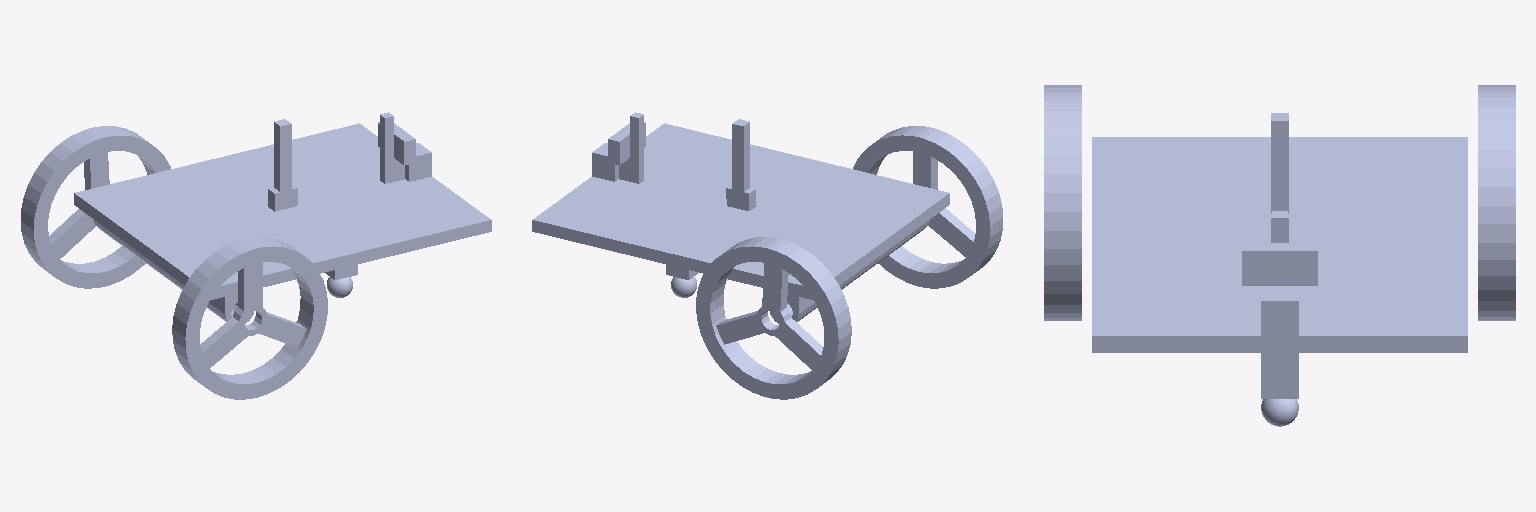
The robot description file, URDF, robot "pauli":
<?xml version="1.0" encoding="utf-8"?>
<robot
  name="pauli">
  <link
    name="base_link">
    <inertial>
      <origin
        xyz="0.0827987345980127 1.83243031281616E-17 0.0784992660554831"
        rpy="0 0 0" />
      <mass
        value="0.613776529879719" />
      <inertia
        ixx="0.00203019817083969"
        ixy="7.73666733199254E-20"
        ixz="-7.84328420502032E-05"
        iyy="0.00345682018038741"
        iyz="-2.30076090362524E-20"
        izz="0.00536735194207918" />
    </inertial>
    <visual>
      <origin
        xyz="0 0 0"
        rpy="0 0 0" />
      <geometry>
        <mesh
          filename="package://pauli/meshes/base_link.STL" />
      </geometry>
      <material
        name="">
        <color
          rgba="0.792156862745098 0.819607843137255 0.933333333333333 1" />
      </material>
    </visual>
    <collision>
      <origin
        xyz="0 0 0"
        rpy="0 0 0" />
      <geometry>
        <mesh
          filename="package://pauli/meshes/base_link.STL" />
      </geometry>
    </collision>
  </link>
  <link
    name="fir">
    <inertial>
      <origin
        xyz="0 -3.20178454062125E-19 -1.38777878078145E-17"
        rpy="0 0 0" />
      <mass
        value="0.00312500000000001" />
      <inertia
        ixx="1.69270833333334E-07"
        ixy="-5.24666324745101E-24"
        ixz="-9.92616735063682E-26"
        iyy="1.69270833333334E-07"
        iyz="-9.45191713277259E-24"
        izz="3.25520833333334E-07" />
    </inertial>
    <visual>
      <origin
        xyz="0 0 0"
        rpy="0 0 0" />
      <geometry>
        <mesh
          filename="package://pauli/meshes/fir.STL" />
      </geometry>
      <material
        name="">
        <color
          rgba="0.792156862745098 0.819607843137255 0.933333333333333 1" />
      </material>
    </visual>
    <collision>
      <origin
        xyz="0 0 0"
        rpy="0 0 0" />
      <geometry>
        <mesh
          filename="package://pauli/meshes/fir.STL" />
      </geometry>
    </collision>
  </link>
  <joint
    name="jfir"
    type="fixed">
    <origin
      xyz="0.2075 0 0.07473891288"
      rpy="0 0 0" />
    <parent
      link="base_link" />
    <child
      link="fir" />
    <axis
      xyz="0 0 0" />
  </joint>
  <link
    name="rir">
    <inertial>
      <origin
        xyz="0 1.38777878078145E-17 0"
        rpy="0 0 0" />
      <mass
        value="0.003125" />
      <inertia
        ixx="1.69270833333333E-07"
        ixy="2.67874169569172E-25"
        ixz="4.03664138925878E-24"
        iyy="1.69270833333333E-07"
        iyz="-1.18011100724232E-24"
        izz="3.25520833333333E-07" />
    </inertial>
    <visual>
      <origin
        xyz="0 0 0"
        rpy="0 0 0" />
      <geometry>
        <mesh
          filename="package://pauli/meshes/rir.STL" />
      </geometry>
      <material
        name="">
        <color
          rgba="0.792156862745098 0.819607843137255 0.933333333333333 1" />
      </material>
    </visual>
    <collision>
      <origin
        xyz="0 0 0"
        rpy="0 0 0" />
      <geometry>
        <mesh
          filename="package://pauli/meshes/rir.STL" />
      </geometry>
    </collision>
  </link>
  <joint
    name="jrir"
    type="fixed">
    <origin
      xyz="0.095 -0.0875 0.07473891288"
      rpy="0 0 0" />
    <parent
      link="base_link" />
    <child
      link="rir" />
    <axis
      xyz="0 0 0" />
  </joint>
  <link
    name="bir">
    <inertial>
      <origin
        xyz="0 -7.1506521407208E-18 0"
        rpy="0 0 0" />
      <mass
        value="0.003125" />
      <inertia
        ixx="1.69270833333333E-07"
        ixy="-1.07612006644712E-23"
        ixz="-5.61379909052655E-24"
        iyy="1.69270833333334E-07"
        iyz="-1.22091858412827E-23"
        izz="3.25520833333334E-07" />
    </inertial>
    <visual>
      <origin
        xyz="0 0 0"
        rpy="0 0 0" />
      <geometry>
        <mesh
          filename="package://pauli/meshes/bir.STL" />
      </geometry>
      <material
        name="">
        <color
          rgba="0.792156862745098 0.819607843137255 0.933333333333333 1" />
      </material>
    </visual>
    <collision>
      <origin
        xyz="0 0 0"
        rpy="0 0 0" />
      <geometry>
        <mesh
          filename="package://pauli/meshes/bir.STL" />
      </geometry>
    </collision>
  </link>
  <joint
    name="jbir"
    type="fixed">
    <origin
      xyz="-0.0255 0 0.07473891288"
      rpy="0 0 0" />
    <parent
      link="base_link" />
    <child
      link="bir" />
    <axis
      xyz="0 0 0" />
  </joint>
  <link
    name="lir">
    <inertial>
      <origin
        xyz="-1.38777878078145E-17 0 0"
        rpy="0 0 0" />
      <mass
        value="0.003125" />
      <inertia
        ixx="1.69270833333333E-07"
        ixy="2.67874169569172E-25"
        ixz="4.03664138925878E-24"
        iyy="1.69270833333333E-07"
        iyz="-1.18011100724232E-24"
        izz="3.25520833333333E-07" />
    </inertial>
    <visual>
      <origin
        xyz="0 0 0"
        rpy="0 0 0" />
      <geometry>
        <mesh
          filename="package://pauli/meshes/lir.STL" />
      </geometry>
      <material
        name="">
        <color
          rgba="0.792156862745098 0.819607843137255 0.933333333333333 1" />
      </material>
    </visual>
    <collision>
      <origin
        xyz="0 0 0"
        rpy="0 0 0" />
      <geometry>
        <mesh
          filename="package://pauli/meshes/lir.STL" />
      </geometry>
    </collision>
  </link>
  <joint
    name="jlir"
    type="fixed">
    <origin
      xyz="0.095 0.0875 0.07473891288"
      rpy="0 0 0" />
    <parent
      link="base_link" />
    <child
      link="lir" />
    <axis
      xyz="0 0 0" />
  </joint>
  <link
    name="frir1">
    <inertial>
      <origin
        xyz="-2.77555756156289E-17 0 0"
        rpy="0 0 0" />
      <mass
        value="0.00312500000000001" />
      <inertia
        ixx="1.69270833333334E-07"
        ixy="-6.1731055335104E-24"
        ixz="-1.47789602776141E-24"
        iyy="1.69270833333334E-07"
        iyz="-8.07328277851754E-24"
        izz="3.25520833333334E-07" />
    </inertial>
    <visual>
      <origin
        xyz="0 0 0"
        rpy="0 0 0" />
      <geometry>
        <mesh
          filename="package://pauli/meshes/frir1.STL" />
      </geometry>
      <material
        name="">
        <color
          rgba="0.792156862745098 0.819607843137255 0.933333333333333 1" />
      </material>
    </visual>
    <collision>
      <origin
        xyz="0 0 0"
        rpy="0 0 0" />
      <geometry>
        <mesh
          filename="package://pauli/meshes/frir1.STL" />
      </geometry>
    </collision>
  </link>
  <joint
    name="jfrir1"
    type="fixed">
    <origin
      xyz="0.1725 -0.025 0.07473891288"
      rpy="0 0 0" />
    <parent
      link="base_link" />
    <child
      link="frir1" />
    <axis
      xyz="0 0 0" />
  </joint>
  <link
    name="frir2">
    <inertial>
      <origin
        xyz="0 0 0"
        rpy="0 0 0" />
      <mass
        value="0.003125" />
      <inertia
        ixx="1.69270833333334E-07"
        ixy="5.78241158658936E-24"
        ixz="4.03664138925877E-24"
        iyy="1.69270833333334E-07"
        iyz="-5.31601407000745E-24"
        izz="3.25520833333334E-07" />
    </inertial>
    <visual>
      <origin
        xyz="0 0 0"
        rpy="0 0 0" />
      <geometry>
        <mesh
          filename="package://pauli/meshes/frir2.STL" />
      </geometry>
      <material
        name="">
        <color
          rgba="0.792156862745098 0.819607843137255 0.933333333333333 1" />
      </material>
    </visual>
    <collision>
      <origin
        xyz="0 0 0"
        rpy="0 0 0" />
      <geometry>
        <mesh
          filename="package://pauli/meshes/frir2.STL" />
      </geometry>
    </collision>
  </link>
  <joint
    name="jfrir2"
    type="fixed">
    <origin
      xyz="0.1375 -0.05 0.07473891288"
      rpy="0 0 0" />
    <parent
      link="base_link" />
    <child
      link="frir2" />
    <axis
      xyz="0 0 0" />
  </joint>
  <link
    name="flir1">
    <inertial>
      <origin
        xyz="-2.77555756156289E-17 -3.46944695195361E-18 0"
        rpy="0 0 0" />
      <mass
        value="0.00312500000000001" />
      <inertia
        ixx="1.69270833333334E-07"
        ixy="3.09131732708352E-24"
        ixz="2.65800703500372E-24"
        iyy="1.69270833333334E-07"
        iyz="-1.22091858412827E-23"
        izz="3.25520833333334E-07" />
    </inertial>
    <visual>
      <origin
        xyz="0 0 0"
        rpy="0 0 0" />
      <geometry>
        <mesh
          filename="package://pauli/meshes/flir1.STL" />
      </geometry>
      <material
        name="">
        <color
          rgba="0.792156862745098 0.819607843137255 0.933333333333333 1" />
      </material>
    </visual>
    <collision>
      <origin
        xyz="0 0 0"
        rpy="0 0 0" />
      <geometry>
        <mesh
          filename="package://pauli/meshes/flir1.STL" />
      </geometry>
    </collision>
  </link>
  <joint
    name="jflir1"
    type="fixed">
    <origin
      xyz="0.1725 0.025 0.07473891288"
      rpy="0 0 0" />
    <parent
      link="base_link" />
    <child
      link="flir1" />
    <axis
      xyz="0 0 0" />
  </joint>
  <link
    name="flir2">
    <inertial>
      <origin
        xyz="0 -6.93889390390723E-18 0"
        rpy="0 0 0" />
      <mass
        value="0.003125" />
      <inertia
        ixx="1.69270833333333E-07"
        ixy="2.67874169569172E-25"
        ixz="4.03664138925877E-24"
        iyy="1.69270833333334E-07"
        iyz="-3.93737971575241E-24"
        izz="3.25520833333334E-07" />
    </inertial>
    <visual>
      <origin
        xyz="0 0 0"
        rpy="0 0 0" />
      <geometry>
        <mesh
          filename="package://pauli/meshes/flir2.STL" />
      </geometry>
      <material
        name="">
        <color
          rgba="0.792156862745098 0.819607843137255 0.933333333333333 1" />
      </material>
    </visual>
    <collision>
      <origin
        xyz="0 0 0"
        rpy="0 0 0" />
      <geometry>
        <mesh
          filename="package://pauli/meshes/flir2.STL" />
      </geometry>
    </collision>
  </link>
  <joint
    name="jflir2"
    type="fixed">
    <origin
      xyz="0.1375 0.05 0.07473891288"
      rpy="0 0 0" />
    <parent
      link="base_link" />
    <child
      link="flir2" />
    <axis
      xyz="0 0 0" />
  </joint>
  <link
    name="cam">
    <inertial>
      <origin
        xyz="-5.55111512312578E-17 -7.27319116376891E-18 -0.01"
        rpy="0 0 0" />
      <mass
        value="0.00800000000000001" />
      <inertia
        ixx="5.33333333333334E-07"
        ixy="-2.34506605395942E-23"
        ixz="-9.96187543624935E-24"
        iyy="5.33333333333335E-07"
        iyz="-3.76873192665008E-24"
        izz="5.33333333333334E-07" />
    </inertial>
    <visual>
      <origin
        xyz="0 0 0"
        rpy="0 0 0" />
      <geometry>
        <mesh
          filename="package://pauli/meshes/cam.STL" />
      </geometry>
      <material
        name="">
        <color
          rgba="0.792156862745098 0.819607843137255 0.933333333333333 1" />
      </material>
    </visual>
    <collision>
      <origin
        xyz="0 0 0"
        rpy="0 0 0" />
      <geometry>
        <mesh
          filename="package://pauli/meshes/cam.STL" />
      </geometry>
    </collision>
  </link>
  <joint
    name="jcam"
    type="fixed">
    <origin
      xyz="0.21 0 0.10723891288"
      rpy="0 0 0" />
    <parent
      link="base_link" />
    <child
      link="cam" />
    <axis
      xyz="0 0 0" />
  </joint>
  <link
    name="scam">
    <inertial>
      <origin
        xyz="0 -8.65365889033751E-19 -0.0133333333333333"
        rpy="0 0 0" />
      <mass
        value="0.00960000000000001" />
      <inertia
        ixx="1.92853333333333E-06"
        ixy="-2.25800168136325E-24"
        ixz="-9.30578189122159E-24"
        iyy="9.33333333333334E-07"
        iyz="1.43310709548107E-22"
        izz="1.1552E-06" />
    </inertial>
    <visual>
      <origin
        xyz="0 0 0"
        rpy="0 0 0" />
      <geometry>
        <mesh
          filename="package://pauli/meshes/scam.STL" />
      </geometry>
      <material
        name="">
        <color
          rgba="0.792156862745098 0.819607843137255 0.933333333333333 1" />
      </material>
    </visual>
    <collision>
      <origin
        xyz="0 0 0"
        rpy="0 0 0" />
      <geometry>
        <mesh
          filename="package://pauli/meshes/scam.STL" />
      </geometry>
    </collision>
  </link>
  <joint
    name="jscam"
    type="fixed">
    <origin
      xyz="0.195 0 0.12723891288"
      rpy="0 0 0" />
    <parent
      link="base_link" />
    <child
      link="scam" />
    <axis
      xyz="0 0 0" />
  </joint>
  <link
    name="dcam">
    <inertial>
      <origin
        xyz="-2.77555756156289E-17 -5.93812236253732E-18 -0.0275"
        rpy="0 0 0" />
      <mass
        value="0.00352" />
      <inertia
        ixx="9.06106666666667E-07"
        ixy="-1.67509398279336E-24"
        ixz="-9.17247099671904E-24"
        iyy="9.06106666666667E-07"
        iyz="1.76282961029487E-23"
        izz="3.75466666666667E-08" />
    </inertial>
    <visual>
      <origin
        xyz="0 0 0"
        rpy="0 0 0" />
      <geometry>
        <mesh
          filename="package://pauli/meshes/dcam.STL" />
      </geometry>
      <material
        name="">
        <color
          rgba="0.792156862745098 0.819607843137255 0.933333333333333 1" />
      </material>
    </visual>
    <collision>
      <origin
        xyz="0 0 0"
        rpy="0 0 0" />
      <geometry>
        <mesh
          filename="package://pauli/meshes/dcam.STL" />
      </geometry>
    </collision>
  </link>
  <joint
    name="jdcam"
    type="fixed">
    <origin
      xyz="0.186 0 0.14223891288"
      rpy="0 0 0" />
    <parent
      link="base_link" />
    <child
      link="dcam" />
    <axis
      xyz="0 0 0" />
  </joint>
  <link
    name="lidar">
    <inertial>
      <origin
        xyz="0 -2.90048344231063E-17 -0.03"
        rpy="0 0 0" />
      <mass
        value="0.00600000000000001" />
      <inertia
        ixx="1.85E-06"
        ixy="-5.32642551665082E-25"
        ixz="9.84026409256897E-24"
        iyy="1.85E-06"
        iyz="1.01753545033817E-38"
        izz="1E-07" />
    </inertial>
    <visual>
      <origin
        xyz="0 0 0"
        rpy="0 0 0" />
      <geometry>
        <mesh
          filename="package://pauli/meshes/lidar.STL" />
      </geometry>
      <material
        name="">
        <color
          rgba="0.792156862745098 0.819607843137255 0.933333333333333 1" />
      </material>
    </visual>
    <collision>
      <origin
        xyz="0 0 0"
        rpy="0 0 0" />
      <geometry>
        <mesh
          filename="package://pauli/meshes/lidar.STL" />
      </geometry>
    </collision>
  </link>
  <joint
    name="jlidar"
    type="fixed">
    <origin
      xyz="0.095 0 0.15723891288"
      rpy="0 0 0" />
    <parent
      link="base_link" />
    <child
      link="lidar" />
    <axis
      xyz="0 0 0" />
  </joint>
  <link
    name="imu">
    <inertial>
      <origin
        xyz="0 -2.97600751509612E-17 0"
        rpy="0 0 0" />
      <mass
        value="0.004" />
      <inertia
        ixx="1.66666666666667E-07"
        ixy="-5.70471720715814E-23"
        ixz="1.63624177864271E-23"
        iyy="1.66666666666667E-07"
        iyz="4.69058611757858E-24"
        izz="2.66666666666667E-07" />
    </inertial>
    <visual>
      <origin
        xyz="0 0 0"
        rpy="0 0 0" />
      <geometry>
        <mesh
          filename="package://pauli/meshes/imu.STL" />
      </geometry>
      <material
        name="">
        <color
          rgba="0.792156862745098 0.819607843137255 0.933333333333333 1" />
      </material>
    </visual>
    <collision>
      <origin
        xyz="0 0 0"
        rpy="0 0 0" />
      <geometry>
        <mesh
          filename="package://pauli/meshes/imu.STL" />
      </geometry>
    </collision>
  </link>
  <joint
    name="jimu"
    type="fixed">
    <origin
      xyz="0.095 0 0.09223891288"
      rpy="-1.57 -1.57 0" />
    <parent
      link="base_link" />
    <child
      link="imu" />
    <axis
      xyz="0 0 0" />
  </joint>
  <link
    name="lwheel">
    <inertial>
      <origin
        xyz="6.07153216591882E-18 0.0100000000000001 0"
        rpy="0 0 0" />
      <mass
        value="0.109592030403025" />
      <inertia
        ixx="0.000154736253425142"
        ixy="-5.01122927298111E-20"
        ixz="-4.31986803099693E-20"
        iyy="0.000303228108341124"
        iyz="1.04714940044078E-19"
        izz="0.000154736253425142" />
    </inertial>
    <visual>
      <origin
        xyz="0 0 0"
        rpy="0 0 0" />
      <geometry>
        <mesh
          filename="package://pauli/meshes/lwheel.STL" />
      </geometry>
      <material
        name="">
        <color
          rgba="0.792156862745098 0.819607843137255 0.933333333333333 1" />
      </material>
    </visual>
    <collision>
      <origin
        xyz="0 0 0"
        rpy="0 0 0" />
      <geometry>
        <mesh
          filename="package://pauli/meshes/lwheel.STL" />
      </geometry>
    </collision>
  </link>
  <joint
    name="jlwheel"
    type="continuous">
    <origin
      xyz="0 0.105 0.0622389128799999"
      rpy="0 -0.0531729621739823 0" />
    <parent
      link="base_link" />
    <child
      link="lwheel" />
    <axis
      xyz="0 1 0" />
  </joint>
  <link
    name="rwheel">
    <inertial>
      <origin
        xyz="3.45511600618075E-17 -0.01 0"
        rpy="0 0 0" />
      <mass
        value="0.109592030403025" />
      <inertia
        ixx="0.000154736253425143"
        ixy="1.41561894762004E-22"
        ixz="-4.12556330510823E-20"
        iyy="0.000303228108341124"
        iyz="-1.28048089303966E-22"
        izz="0.000154736253425143" />
    </inertial>
    <visual>
      <origin
        xyz="0 0 0"
        rpy="0 0 0" />
      <geometry>
        <mesh
          filename="package://pauli/meshes/rwheel.STL" />
      </geometry>
      <material
        name="">
        <color
          rgba="0.792156862745098 0.819607843137255 0.933333333333333 1" />
      </material>
    </visual>
    <collision>
      <origin
        xyz="0 0 0"
        rpy="0 0 0" />
      <geometry>
        <mesh
          filename="package://pauli/meshes/rwheel.STL" />
      </geometry>
    </collision>
  </link>
  <joint
    name="jrwheel"
    type="continuous">
    <origin
      xyz="0 -0.105 0.06223891288"
      rpy="0 0 0" />
    <parent
      link="base_link" />
    <child
      link="rwheel" />
    <axis
      xyz="0 1 0" />
  </joint>
  <link
    name="caster">
    <inertial>
      <origin
        xyz="-0.0040513 0.0020392 0.008911"
        rpy="0 0 0" />
      <mass
        value="0.0041888" />
      <inertia
        ixx="1.6755E-07"
        ixy="-3.3087E-24"
        ixz="6.6174E-24"
        iyy="1.6755E-07"
        iyz="0"
        izz="1.6755E-07" />
    </inertial>
    <visual>
      <origin
        xyz="0 0 0"
        rpy="0 0 0" />
      <geometry>
        <mesh
          filename="package://pauli/meshes/caster.STL" />
      </geometry>
      <material
        name="">
        <color
          rgba="0.79216 0.81961 0.93333 1" />
      </material>
    </visual>
    <collision>
      <origin
        xyz="0 0 0"
        rpy="0 0 0" />
      <geometry>
        <mesh
          filename="package://pauli/meshes/caster.STL" />
      </geometry>
    </collision>
  </link>
  <joint
    name="jcaster"
    type="continuous">
    <origin
      xyz="0.145 0 0"
      rpy="0.22497 0.41717 -0.14732" />
    <parent
      link="base_link" />
    <child
      link="caster" />
    <axis
      xyz="0.40518 -0.20394 -0.8912" />
  </joint>
  






<gazebo>
  <plugin name="differential_drive_controller" filename="libgazebo_ros_diff_drive.so">

    <!-- Plugin update rate in Hz -->
    <updateRate>60</updateRate>

    <!-- Name of left joint, defaults to `left_joint` -->
    <leftJoint>jlwheel</leftJoint>

    <!-- Name of right joint, defaults to `right_joint` -->
    <rightJoint>jrwheel</rightJoint>

    <!-- The distance from the center of one wheel to the other, in meters, defaults to 0.34 m -->
    <wheelSeparation>0.256</wheelSeparation>

    <!-- Diameter of the wheels, in meters, defaults to 0.15 m -->
    <wheelDiameter>0.42</wheelDiameter>

    <!-- Wheel acceleration, in rad/s^2, defaults to 0.0 rad/s^2 -->
    <wheelAcceleration>1.0</wheelAcceleration>

    <!-- Maximum torque which the wheels can produce, in Nm, defaults to 5 Nm -->
    <wheelTorque>20</wheelTorque>

    <!-- Topic to receive geometry_msgs/Twist message commands, defaults to `cmd_vel` -->
    <commandTopic>cmd_vel</commandTopic>

    <!-- Topic to publish nav_msgs/Odometry messages, defaults to `odom` -->
    <odometryTopic>odom</odometryTopic>

    <!-- Odometry frame, defaults to `odom` -->
    <odometryFrame>odom</odometryFrame>

    <!-- Robot frame to calculate odometry from, defaults to `base_footprint` -->
    <robotBaseFrame>base_link</robotBaseFrame>

    <!-- Odometry source, 0 for ENCODER, 1 for WORLD, defaults to WORLD -->
    <odometrySource>1</odometrySource>

    <!-- Set to true to publish transforms for the wheel links, defaults to false -->
    <publishWheelTF>false</publishWheelTF>

    <!-- Set to true to publish transforms for the odometry, defaults to true -->
    <publishOdom>false</publishOdom>

    <!-- Set to true to publish sensor_msgs/JointState on /joint_states for the wheel joints, defaults to false -->
    <publishWheelJointState>false</publishWheelJointState>

    <!-- Set to true to swap right and left wheels, defaults to true -->
    <legacyMode>false</legacyMode>
  </plugin>
</gazebo>


 <gazebo reference="imu">
    <gravity>true</gravity>
    <sensor name="imu_sensor" type="imu">
      <always_on>true</always_on>
      <update_rate>100</update_rate>
      <visualize>true</visualize>
      <topic>__default_topic__</topic>
      <plugin filename="libgazebo_ros_imu_sensor.so" name="imu_plugin">
        <topicName>imu</topicName>
        <bodyName>imu_link</bodyName>
        <updateRateHZ>10.0</updateRateHZ>
        <gaussianNoise>0.0</gaussianNoise>
        <xyzOffset>0 0 0</xyzOffset>
        <rpyOffset>0 0 0</rpyOffset>
        <frameName>imu</frameName>
        <initialOrientationAsReference>false</initialOrientationAsReference>
      </plugin>
      <pose>0 0 0 0 0 0</pose>
    </sensor>
  </gazebo>
</robot>

--- What the picture shows (computed from the rendered views, not written in the file) ---
3 views of the same robot in one strip: view 1: azimuth 30°, elevation 25°; view 2: azimuth 150°, elevation 25°; view 3: azimuth 270°, elevation 25° (orthographic).
Robot: pauli — 17 links, 16 joints (3 continuous, 13 fixed); root link base_link; default pose: all joints at 0.
Visible links, largest first — view 1: base_link, rwheel, lwheel, lidar, dcam, scam, cam, imu; view 2: base_link, lwheel, rwheel, lidar, dcam, scam, cam, imu; view 3: base_link, lwheel, rwheel, scam, cam, lidar, caster.
Boxes of the visible links, left/top/right/bottom form: base_link: left=74, top=123, right=491, bottom=323; rwheel: left=172, top=237, right=327, bottom=399; lwheel: left=21, top=126, right=170, bottom=288; lidar: left=274, top=119, right=291, bottom=196; dcam: left=380, top=112, right=393, bottom=183; scam: left=378, top=122, right=415, bottom=181; cam: left=405, top=143, right=431, bottom=181; imu: left=268, top=184, right=297, bottom=211; base_link: left=532, top=123, right=949, bottom=323; lwheel: left=696, top=237, right=851, bottom=399; rwheel: left=853, top=126, right=1002, bottom=288; lidar: left=732, top=119, right=749, bottom=197; dcam: left=630, top=112, right=643, bottom=183; scam: left=608, top=122, right=645, bottom=181; cam: left=592, top=143, right=618, bottom=181; imu: left=726, top=184, right=755, bottom=210; base_link: left=1092, top=137, right=1467, bottom=398; lwheel: left=1478, top=85, right=1515, bottom=320; rwheel: left=1044, top=85, right=1081, bottom=320; scam: left=1242, top=243, right=1317, bottom=285; cam: left=1261, top=286, right=1298, bottom=335; lidar: left=1271, top=113, right=1288, bottom=213; caster: left=1261, top=399, right=1298, bottom=426.
Size in the robot's own frame: 0.2825 by 0.25 by 0.1575 metres.
10 mesh visuals loaded from 17 distinct referenced files (10 binary STL); not drawn: 7 (reference not matched to a file when rendering).
